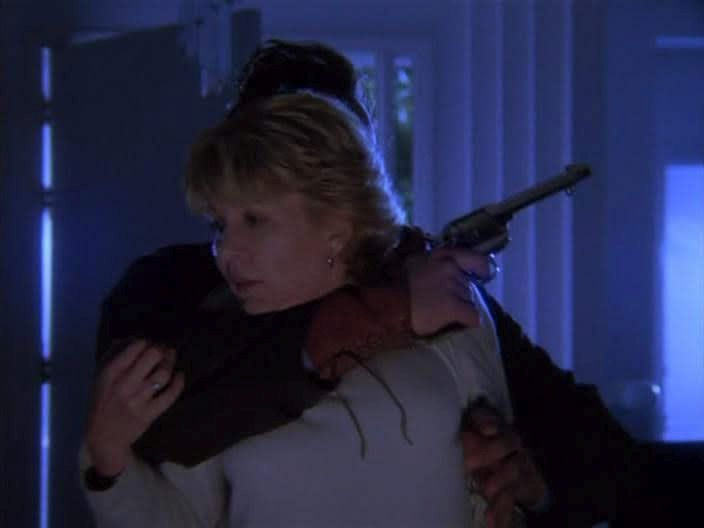gun: (416, 150, 598, 302)
